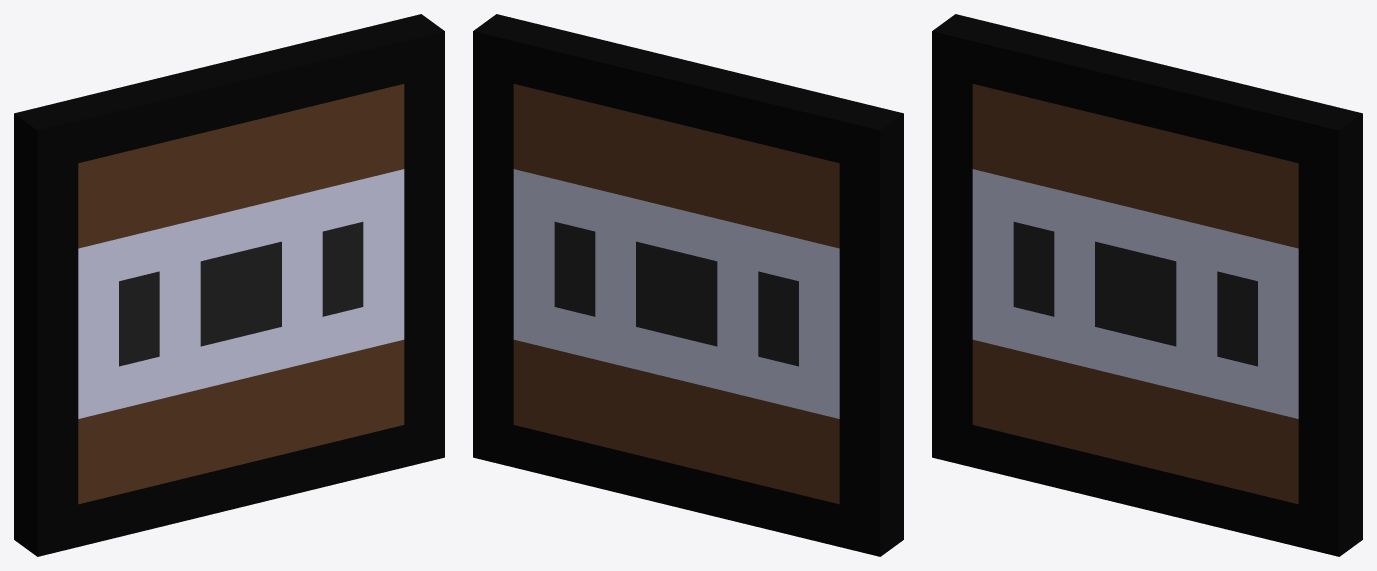
The model's file is Brown Paintball Explosive Item.glb.
3 views of the same model, side by side, from view 1: azimuth 30°, elevation 25°; view 2: azimuth 150°, elevation 25°; view 3: azimuth 330°, elevation 25° (orthographic).
Parts seen in each view (by area): view 1: generated; view 2: generated; view 3: generated.
Boxes of the visible parts, left/top/right/bottom form: generated: left=14, top=14, right=444, bottom=556; generated: left=473, top=14, right=903, bottom=556; generated: left=932, top=14, right=1362, bottom=556.
Size of the model in its own units: 10 by 10 by 1.
Materials: 1 (1 with a texture image).
